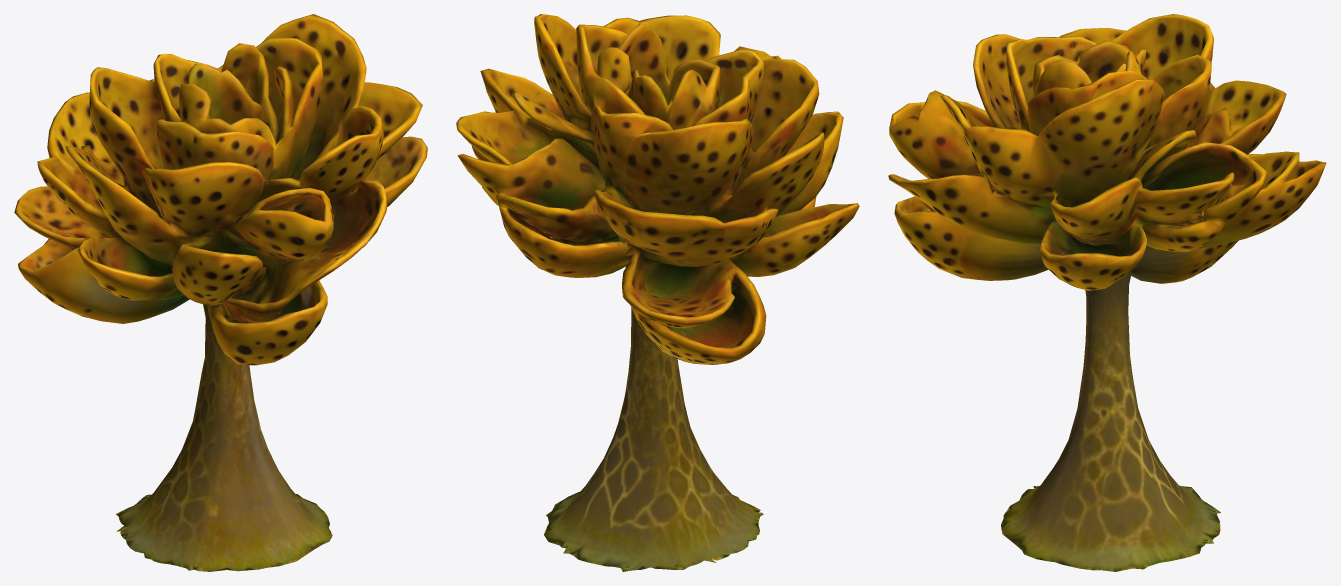
File: Tree_Flower.glb
3 views of the same model, side by side, from view 1: azimuth 30°, elevation 25°; view 2: azimuth 150°, elevation 25°; view 3: azimuth 270°, elevation 25° (orthographic). The views are drawn at different scales.
Parts seen in each view (by area): view 1: SM_asset_205; view 2: SM_asset_205; view 3: SM_asset_205.
Part boxes in pixels (left/top/right/bottom): SM_asset_205: left=14, top=14, right=427, bottom=571; SM_asset_205: left=456, top=14, right=859, bottom=571; SM_asset_205: left=888, top=14, right=1326, bottom=571.
Size of what is drawn, in the model's own units: 1.55 by 1.99 by 1.59.
Materials: 1 (1 with a texture image).
